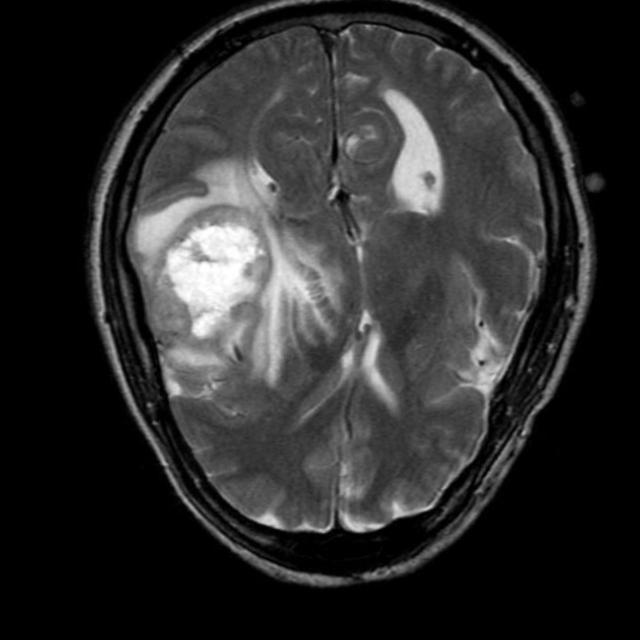Tumor: (152, 207, 266, 374)
